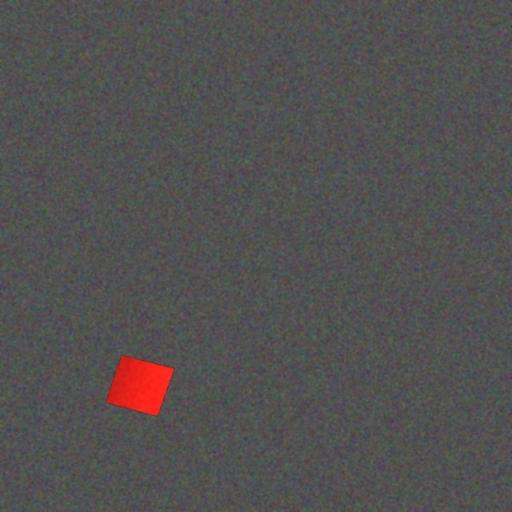RED_SQUARE: (105, 354, 175, 417)
